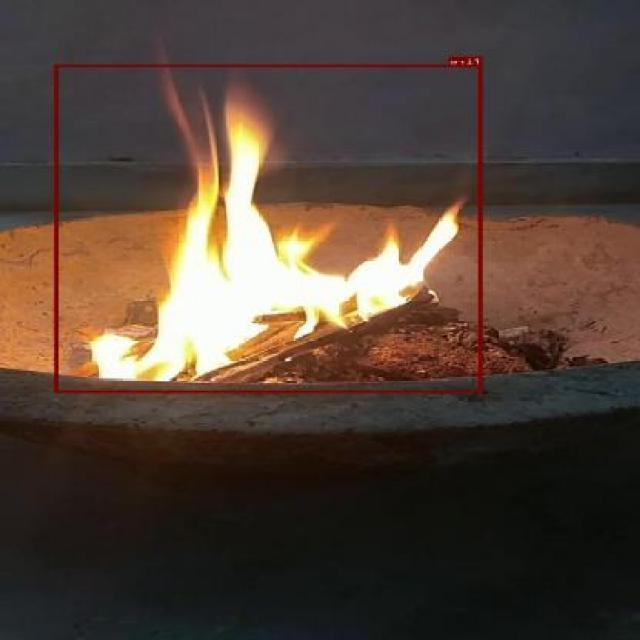Fire: (55, 65, 483, 392)
